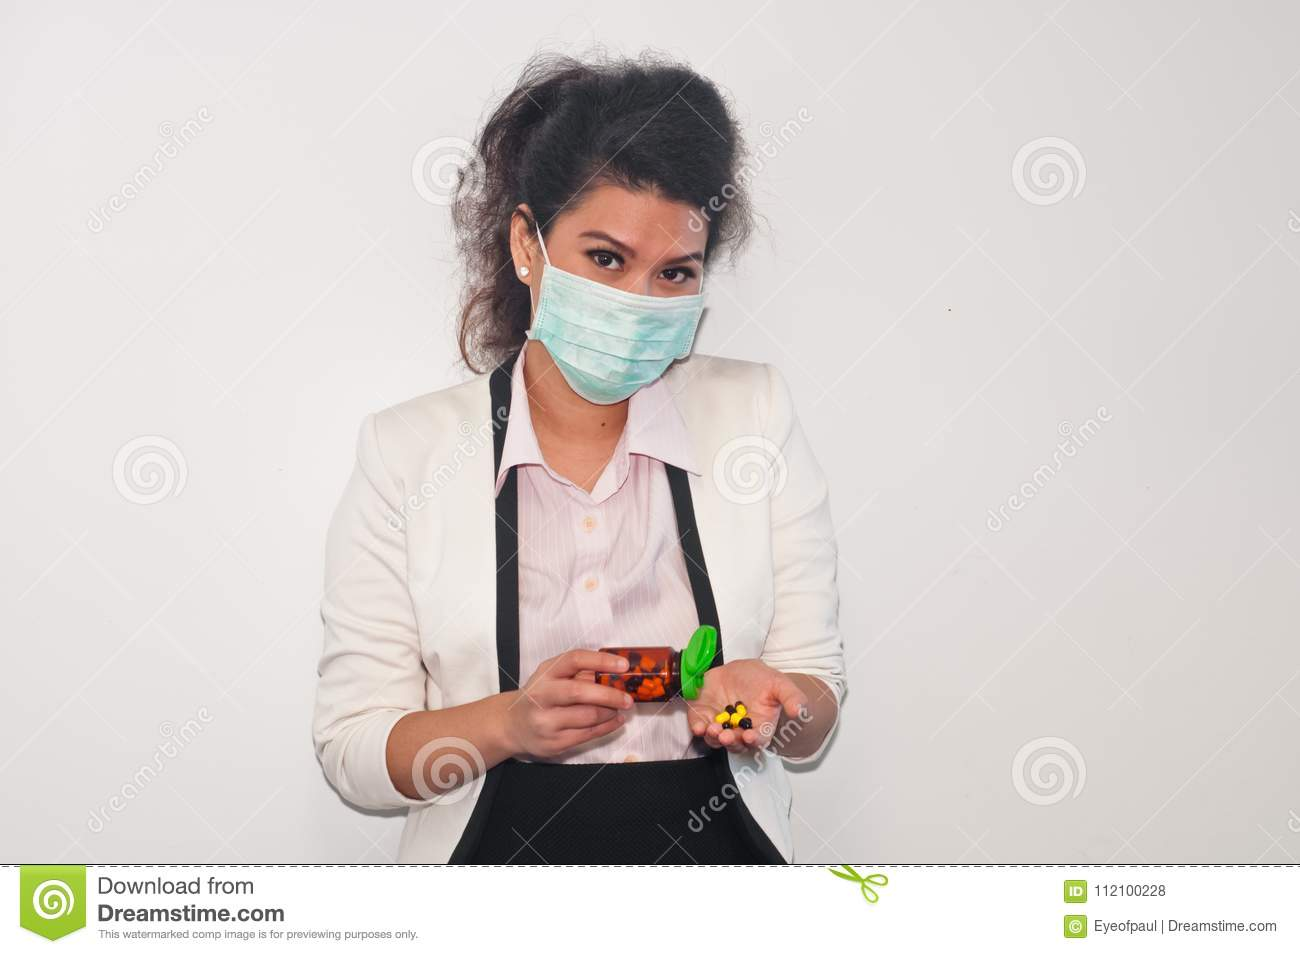mask: (525, 267, 700, 404)
